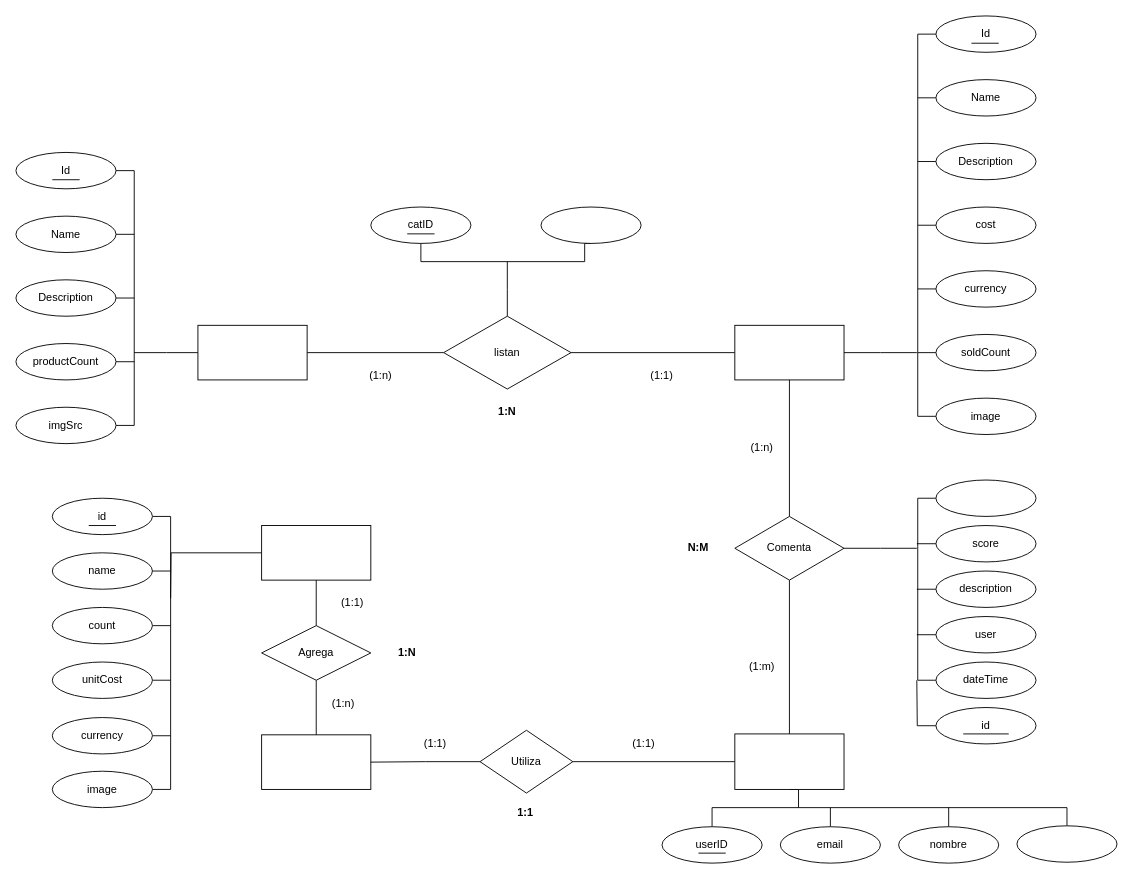
This 1133x879 diagram has some shape labels left out. Each missing label, with the centre of its shape:
Articulos: [316,552]
Carrito de compras: [316,761]
Categorias: [252,352]
catName: [590,224]
password: [1066,843]
product: [985,497]
Productos: [789,352]
Usuario: [789,761]
